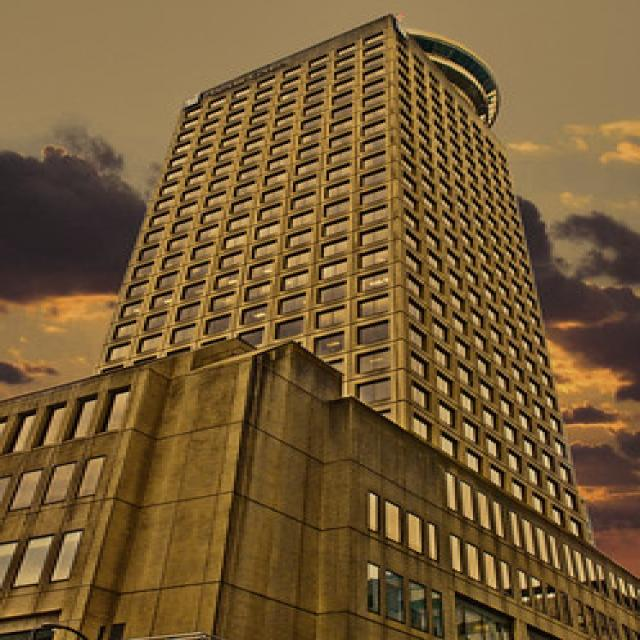Normal_building: (92, 14, 614, 640)
